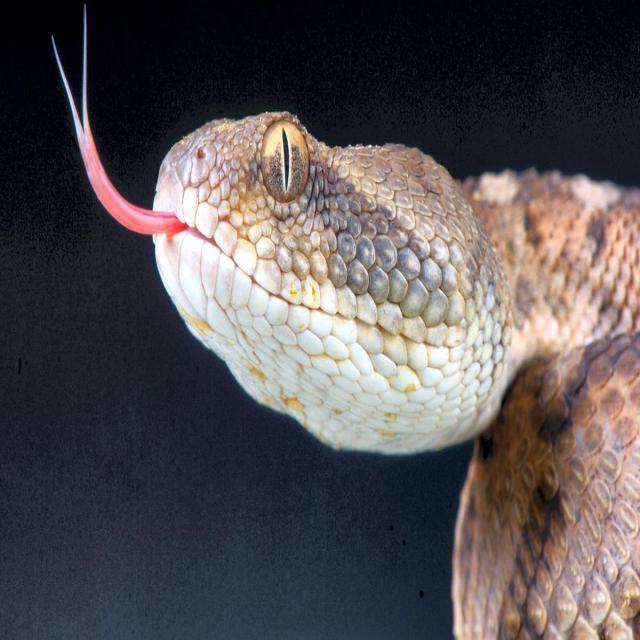Snake: (57, 4, 640, 640)
